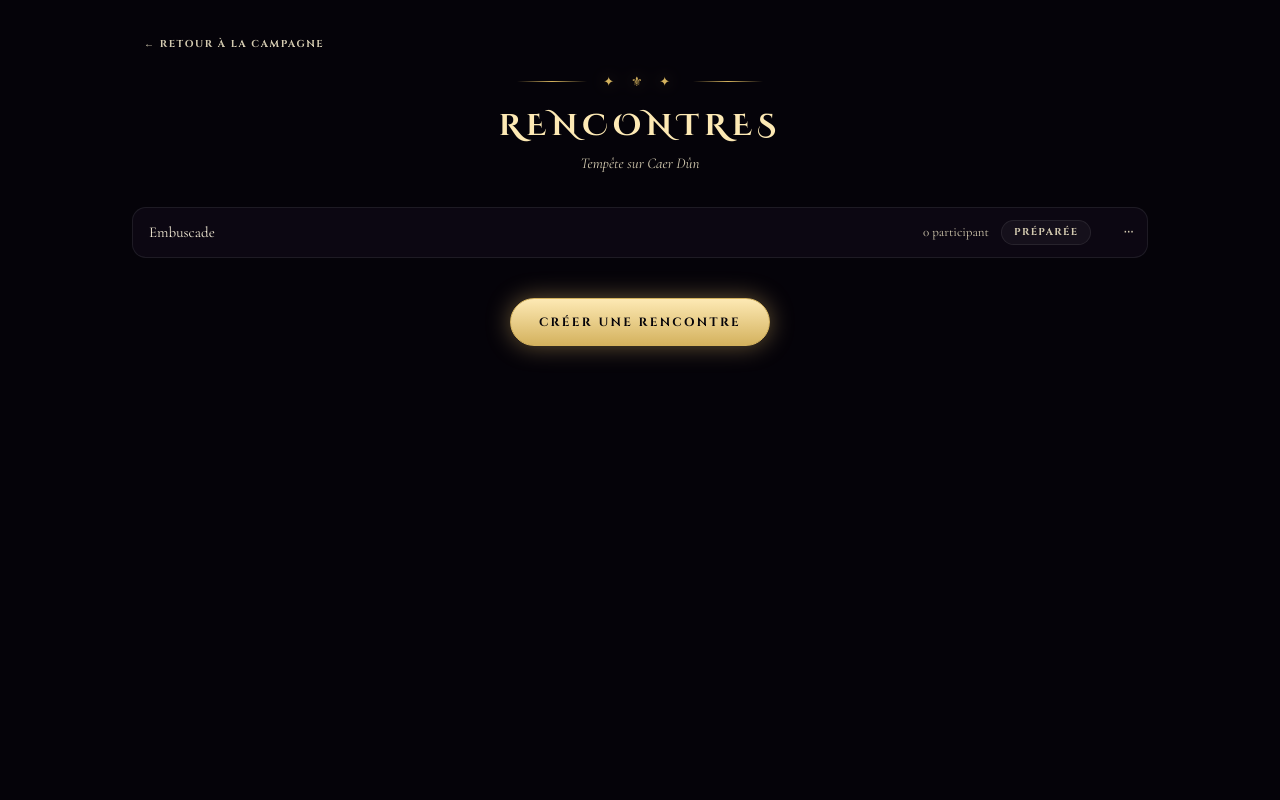
<EncountersListScreen> — gestion MJ (M7) › « Renommer » reste désactivé tant que le nom n’a pas changé
The image size is (1280, 800).
Click the button named "Gérer la rencontre — Embuscade": (1129, 232) [1111, 220, 1147, 244]
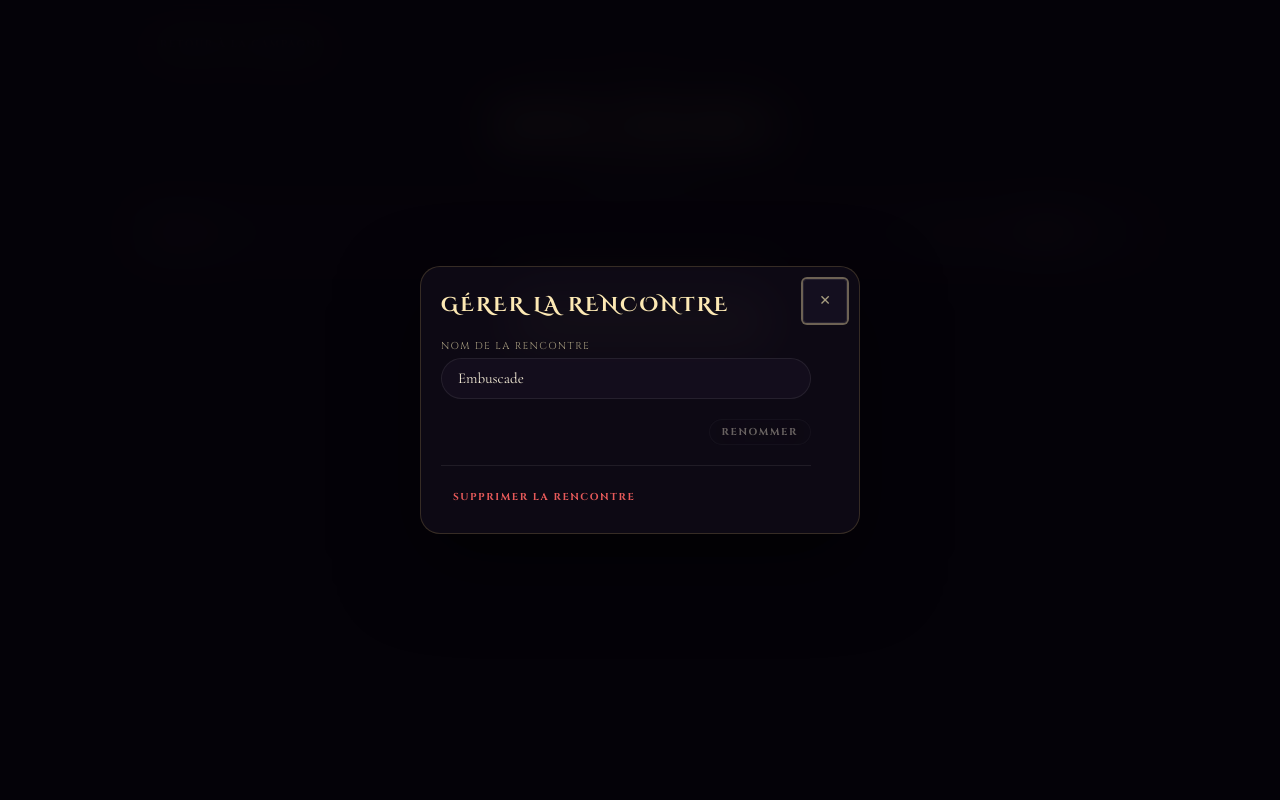
Check: the button "Renommer" is disabled, box [709, 419, 811, 445]
